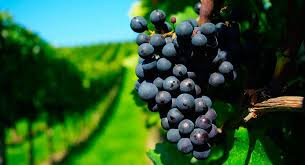Black grapes: (128, 10, 244, 160)
